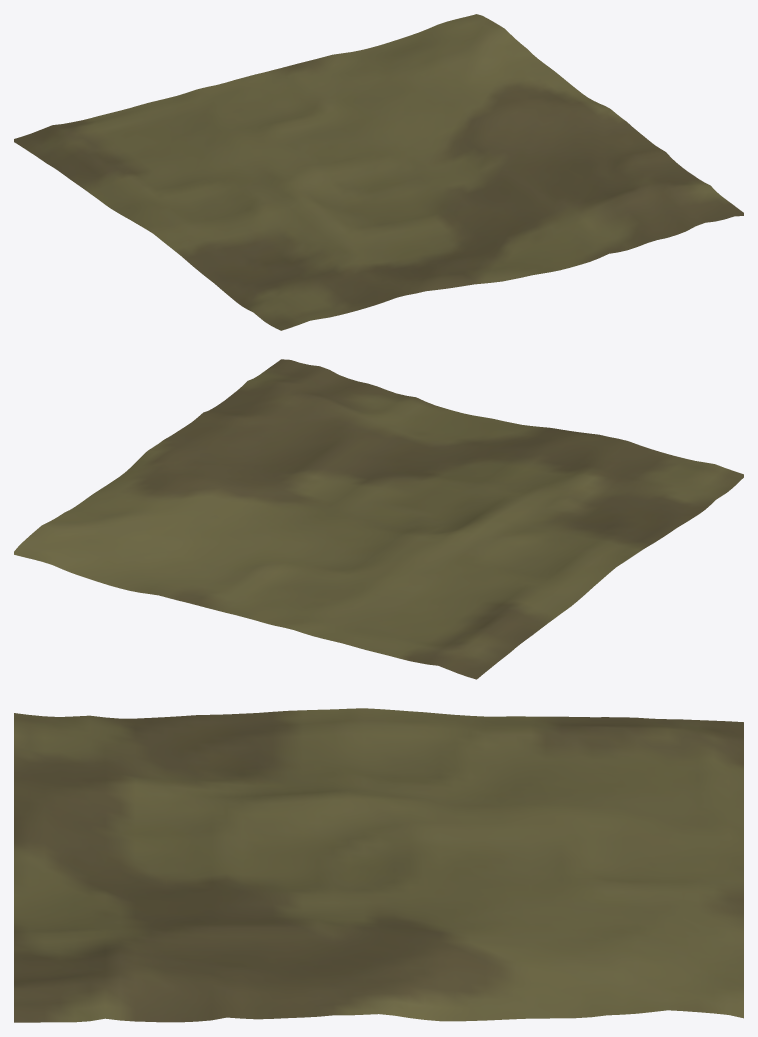
Rendered from land_m_02_03.glb.
The picture shows the model from 3 angles, top to bottom: view 1: azimuth 30°, elevation 25°; view 2: azimuth 150°, elevation 25°; view 3: azimuth 270°, elevation 25°; orthographic projection. The views are drawn at different scales.
Visible parts, largest first — view 1: land_m_02_03; view 2: land_m_02_03; view 3: land_m_02_03.
Part boxes in pixels (x1=…): land_m_02_03: x1=14, y1=14, x2=743, y2=330; land_m_02_03: x1=14, y1=359, x2=743, y2=679; land_m_02_03: x1=14, y1=708, x2=743, y2=1022.
Size of the model in its own units: 960 by 47.08 by 960.
